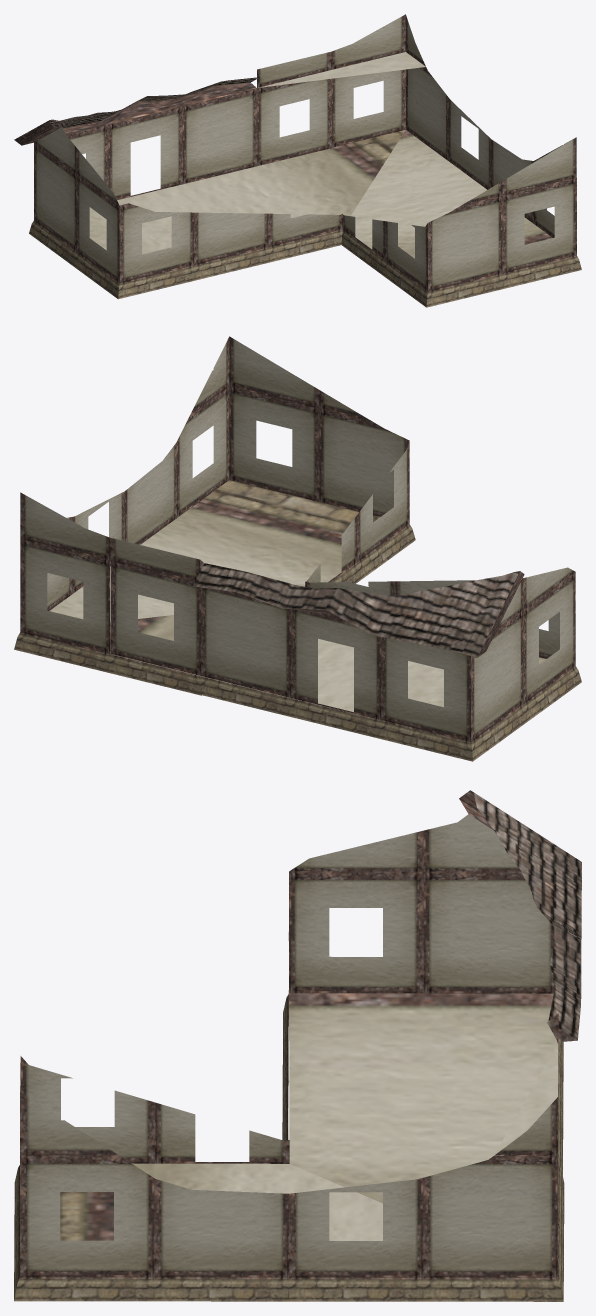
The model's file is s44_b_house_4_5_destroyed_1.dae.
3 views of the same model, one above another, from view 1: azimuth 30°, elevation 25°; view 2: azimuth 150°, elevation 25°; view 3: azimuth 270°, elevation 25° (orthographic). The views are drawn at different scales.
Parts seen in each view (by area): view 1: Untitled; view 2: Untitled; view 3: Untitled.
Boxes of the visible parts, <box> form: Untitled: <box>14,14,581,307</box>; Untitled: <box>14,336,581,761</box>; Untitled: <box>14,790,581,1301</box>.
Bounding box in the file's own units: 125 × 101 × 42.44.
1 material, 1 textured.
